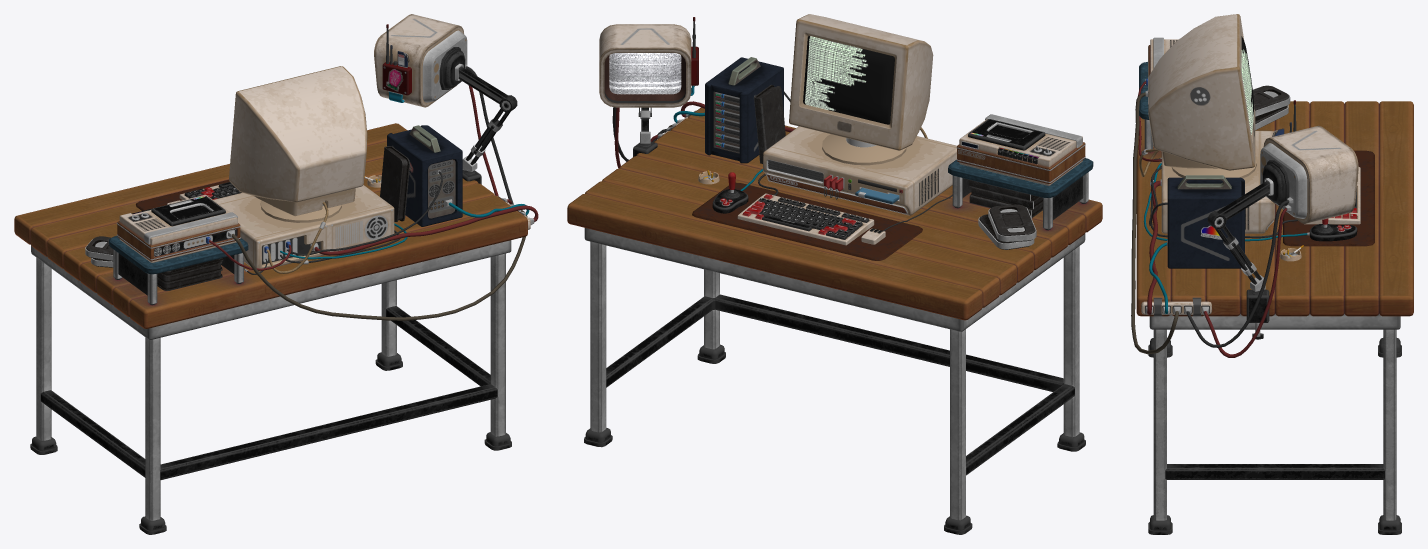
The model's file is HakerRoom.fbx.
3 views of the same model, side by side, from view 1: azimuth 30°, elevation 25°; view 2: azimuth 150°, elevation 25°; view 3: azimuth 270°, elevation 25° (orthographic). The views are drawn at different scales.
Visible parts, largest first — view 1: table_table_mat_0, computer_computer_mat_0, Tv_tv_mat_0, Cables_cables_mat_0, vhs_vhsPlayer_mat_0, server_server_mat_0, props_props_mat_0, shelf_stand_mat_0, arm_arm_mat_0, peripherals_key_mat_0; view 2: table_table_mat_0, computer_computer_mat_0, screen_screens_0, vhs_vhsPlayer_mat_0, server_server_mat_0, props_props_mat_0, Tv_tv_mat_0, peripherals_key_mat_0, keyboard_mat_mat_mat_0, shelf_stand_mat_0, Cables_cables_mat_0, arm_arm_mat_0; view 3: table_table_mat_0, computer_computer_mat_0, Tv_tv_mat_0, server_server_mat_0, Cables_cables_mat_0, arm_arm_mat_0, keyboard_mat_mat_mat_0, props_props_mat_0, peripherals_key_mat_0, shelf_stand_mat_0, screen_screens_0, vhs_vhsPlayer_mat_0.
Part boxes in pixels (x1=…): table_table_mat_0: x1=14, y1=123, x2=527, y2=534; computer_computer_mat_0: x1=213, y1=66, x2=394, y2=270; Tv_tv_mat_0: x1=374, y1=14, x2=467, y2=107; Cables_cables_mat_0: x1=206, y1=64, x2=538, y2=320; vhs_vhsPlayer_mat_0: x1=116, y1=194, x2=240, y2=262; server_server_mat_0: x1=387, y1=125, x2=462, y2=226; props_props_mat_0: x1=85, y1=146, x2=409, y2=290; shelf_stand_mat_0: x1=109, y1=236, x2=248, y2=305; arm_arm_mat_0: x1=439, y1=47, x2=517, y2=184; peripherals_key_mat_0: x1=167, y1=182, x2=241, y2=204; table_table_mat_0: x1=567, y1=107, x2=1102, y2=534; computer_computer_mat_0: x1=763, y1=14, x2=956, y2=215; screen_screens_0: x1=609, y1=36, x2=894, y2=124; vhs_vhsPlayer_mat_0: x1=956, y1=114, x2=1085, y2=185; server_server_mat_0: x1=705, y1=57, x2=783, y2=163; props_props_mat_0: x1=698, y1=85, x2=1042, y2=249; Tv_tv_mat_0: x1=599, y1=17, x2=698, y2=107; peripherals_key_mat_0: x1=712, y1=172, x2=885, y2=245; keyboard_mat_mat_mat_0: x1=692, y1=182, x2=922, y2=260; shelf_stand_mat_0: x1=948, y1=158, x2=1093, y2=230; Cables_cables_mat_0: x1=612, y1=91, x2=952, y2=230; arm_arm_mat_0: x1=633, y1=107, x2=657, y2=156; table_table_mat_0: x1=1136, y1=101, x2=1413, y2=534; computer_computer_mat_0: x1=1148, y1=14, x2=1274, y2=233; Tv_tv_mat_0: x1=1260, y1=100, x2=1358, y2=223; server_server_mat_0: x1=1167, y1=175, x2=1244, y2=268; Cables_cables_mat_0: x1=1131, y1=78, x2=1309, y2=357; arm_arm_mat_0: x1=1207, y1=160, x2=1289, y2=339; keyboard_mat_mat_mat_0: x1=1283, y1=150, x2=1374, y2=246; props_props_mat_0: x1=1253, y1=85, x2=1303, y2=261; peripherals_key_mat_0: x1=1304, y1=167, x2=1360, y2=241; shelf_stand_mat_0: x1=1139, y1=62, x2=1153, y2=152; screen_screens_0: x1=1241, y1=36, x2=1254, y2=134; vhs_vhsPlayer_mat_0: x1=1148, y1=37, x2=1178, y2=104.
Size of the model in its own units: 13449 by 11934 by 7545.
Materials: 13 (12 with a texture image).
